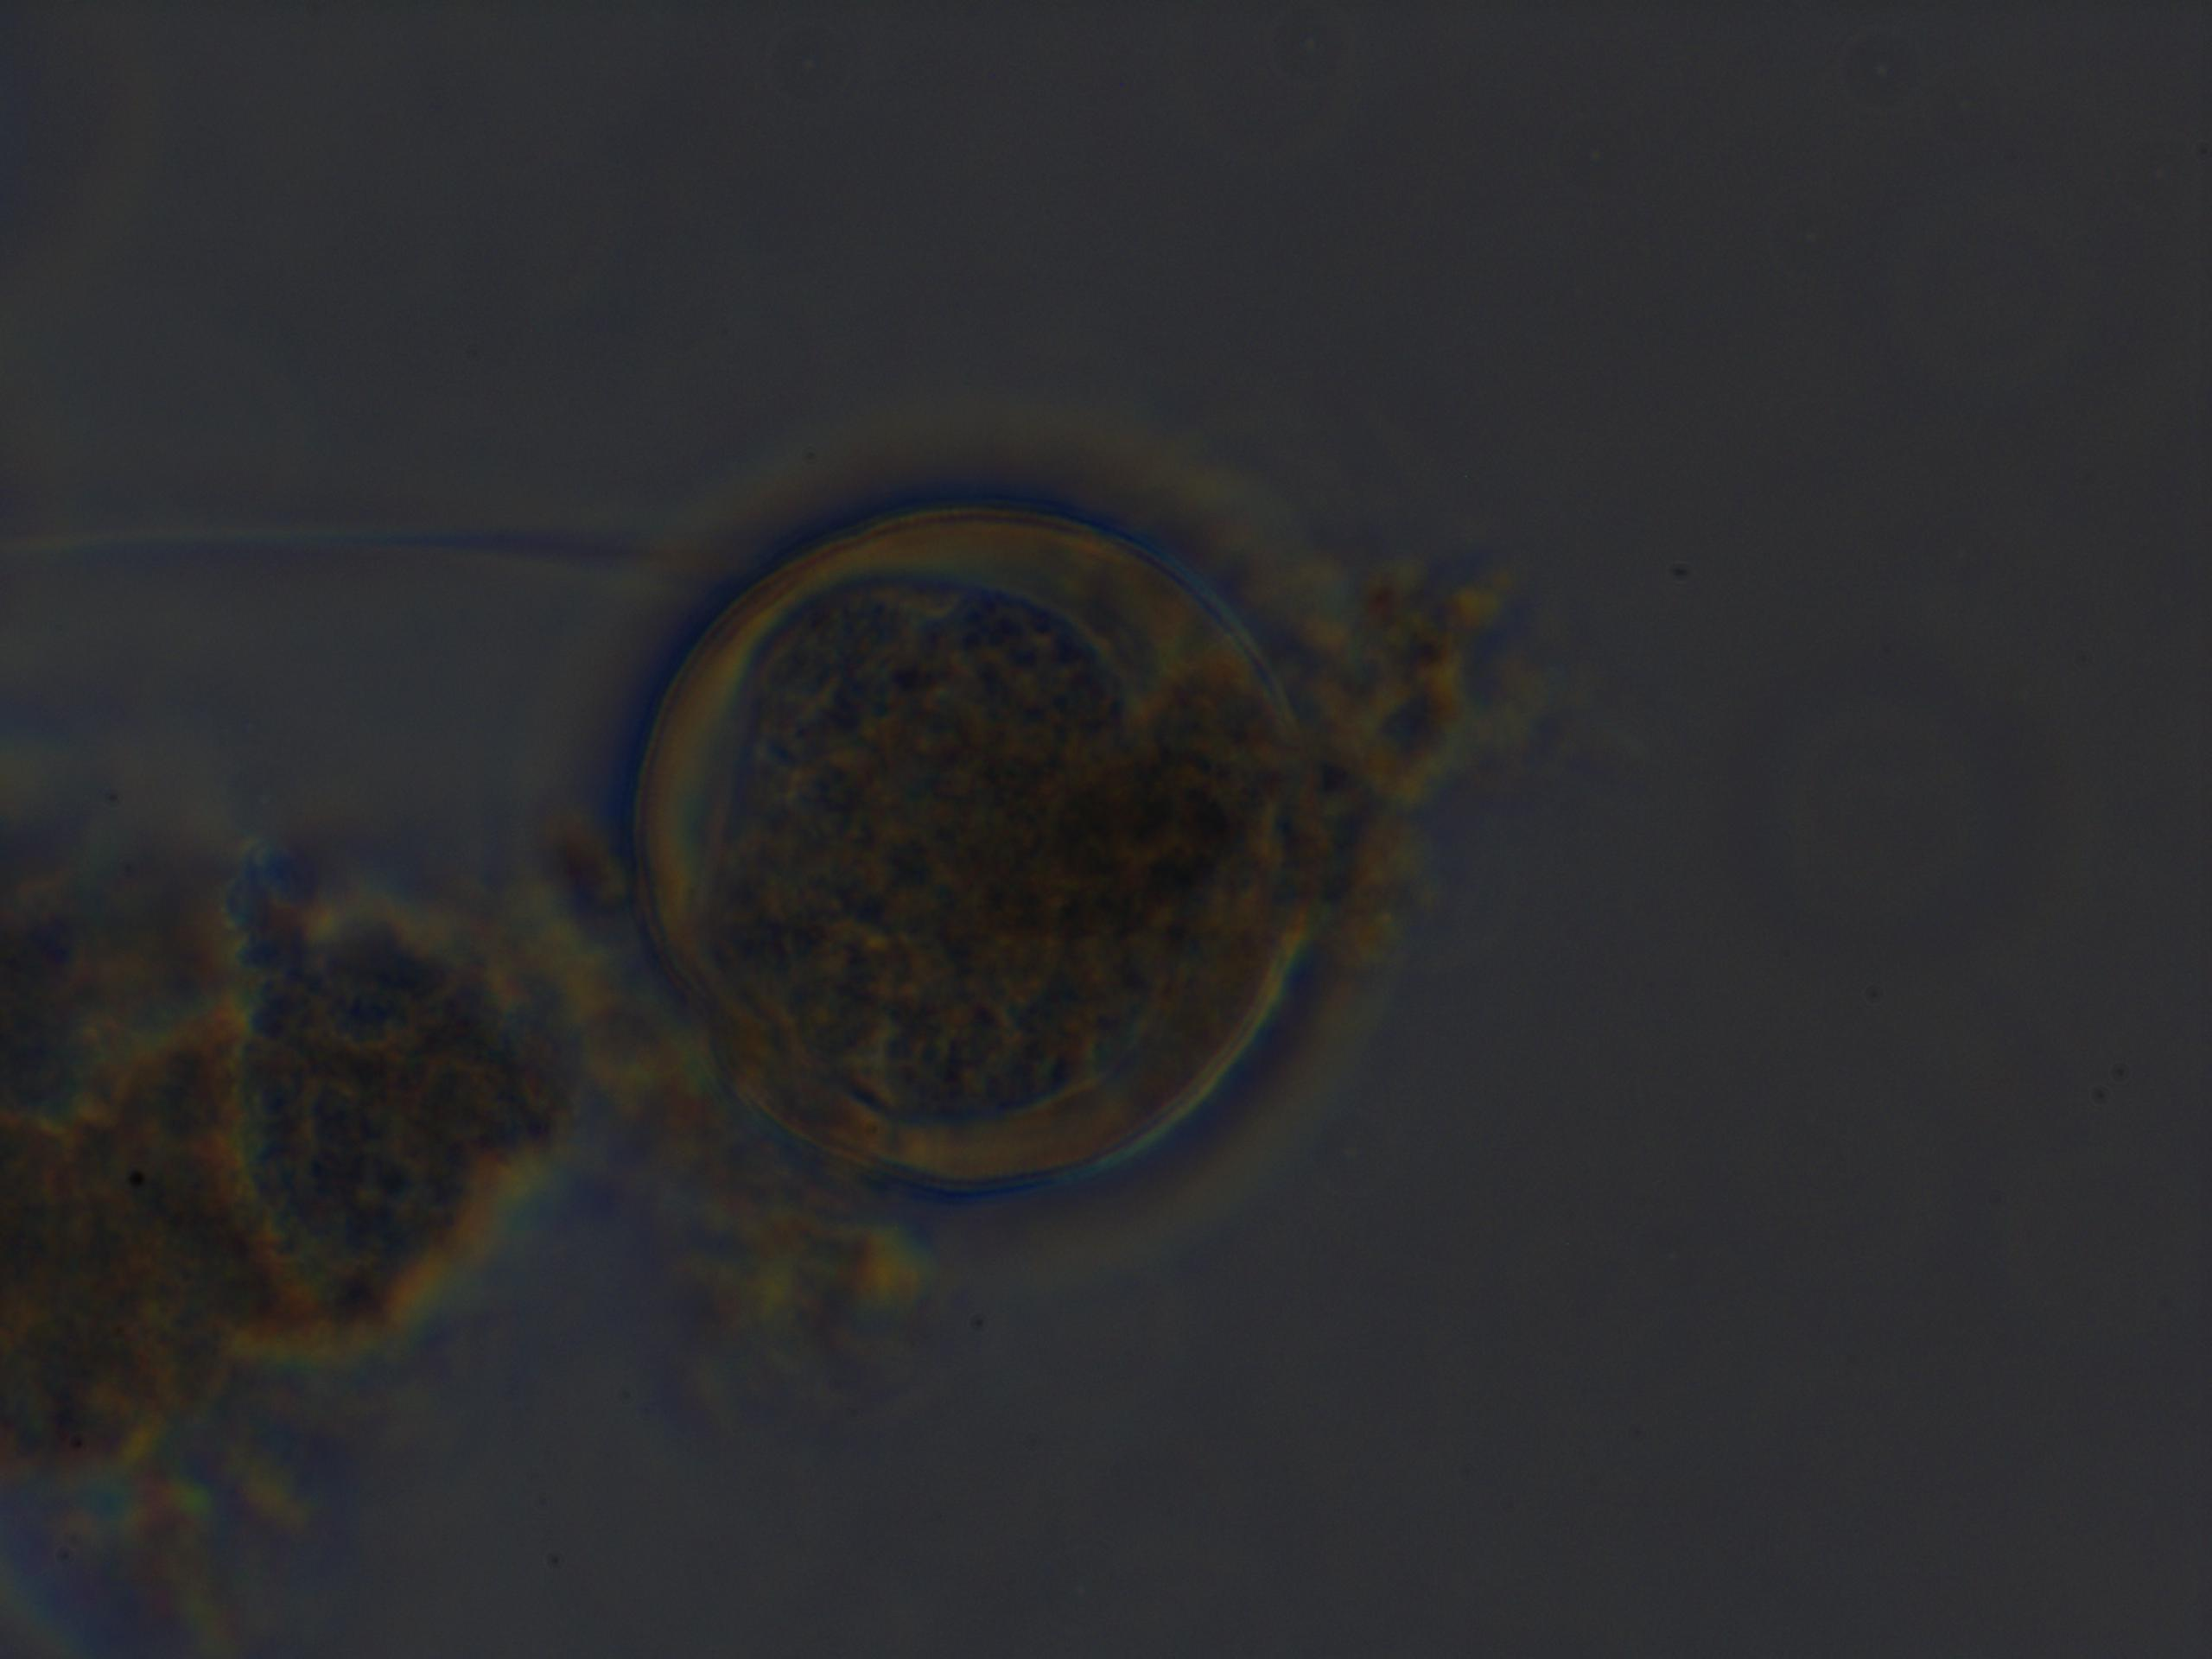protozoa: (523, 371, 1418, 1312)
